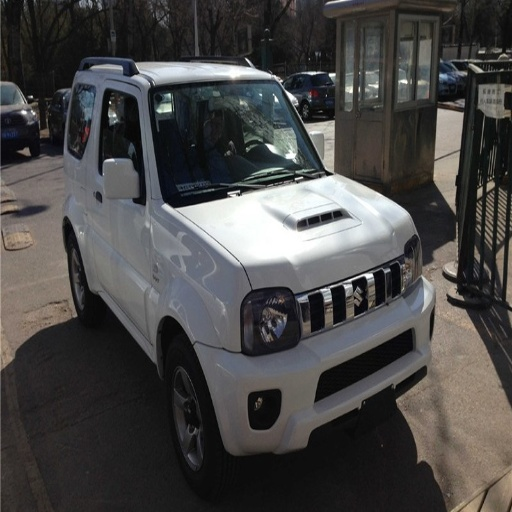front_bumper: (197, 258, 433, 453)
front_right_door: (98, 84, 147, 334)
front_right_light: (226, 289, 312, 354)
